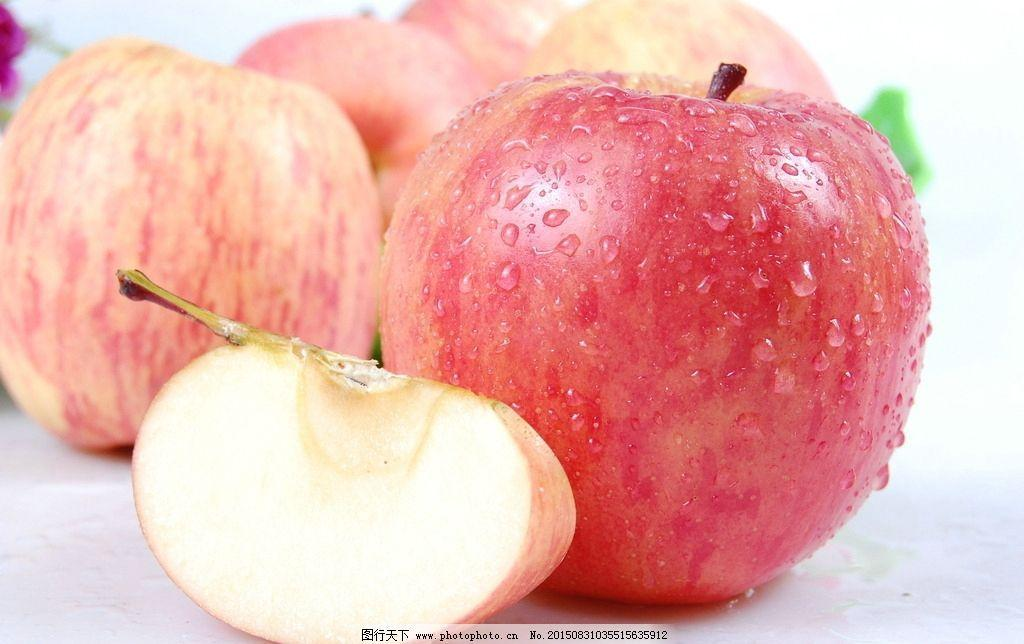apple: (379, 64, 931, 606), (1, 34, 386, 459)
